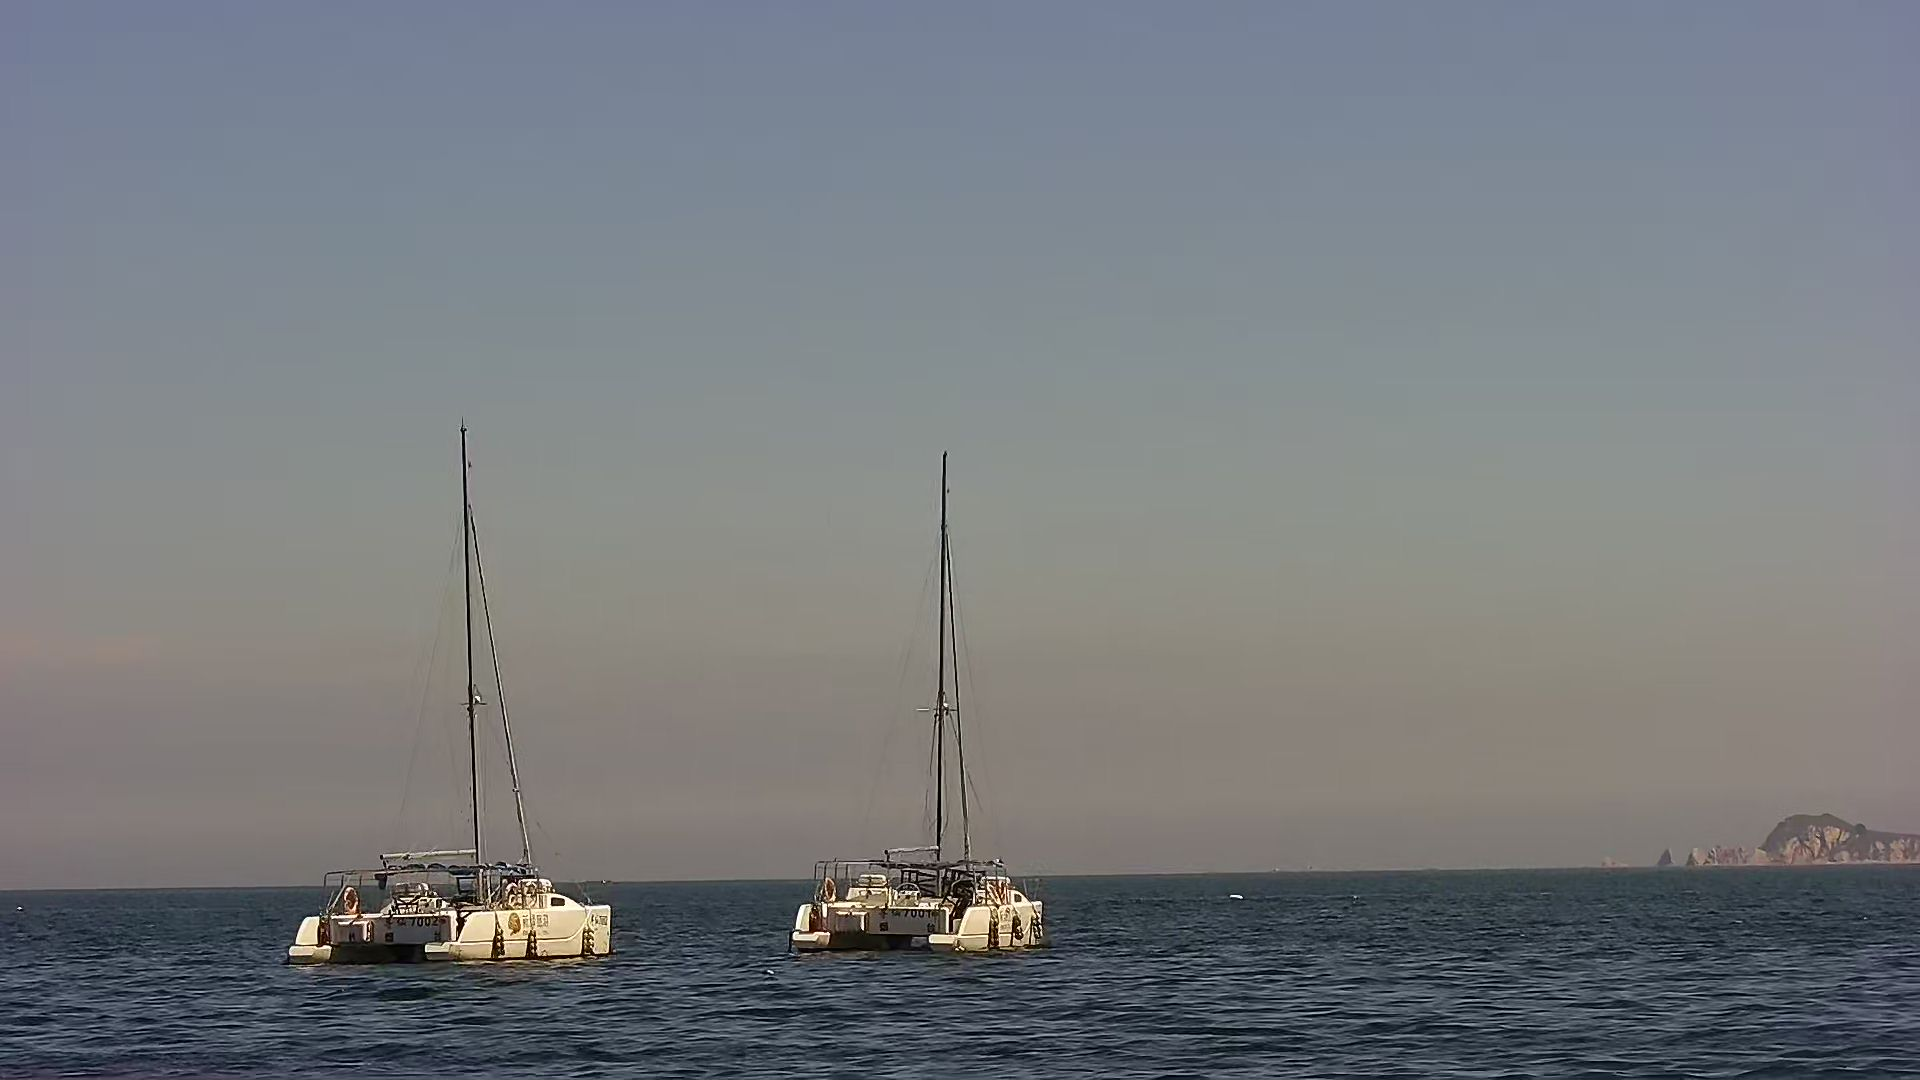boat: (266, 409, 630, 969), (774, 440, 1071, 971)
rock: (1636, 811, 1920, 862)
rubbish: (1218, 878, 1258, 905)
